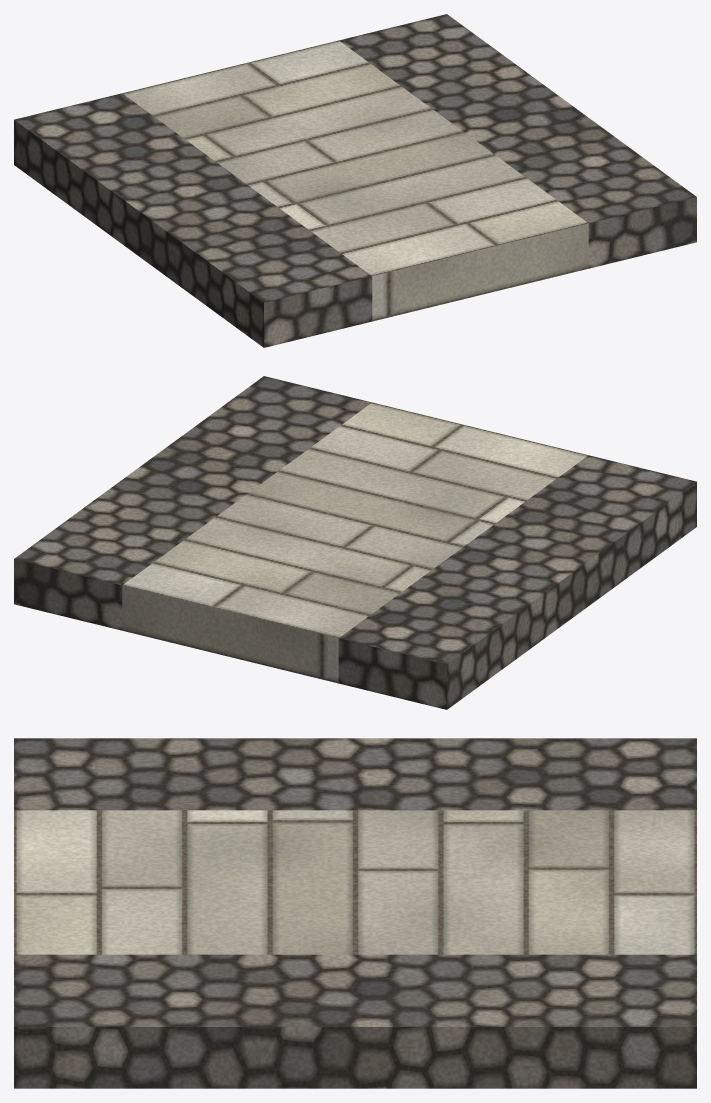
File: road-crossing.glb
The picture shows the model from 3 angles, top to bottom: view 1: azimuth 30°, elevation 25°; view 2: azimuth 150°, elevation 25°; view 3: azimuth 270°, elevation 25°; orthographic projection. The views are drawn at different scales.
Visible parts, largest first — view 1: RoadCrossing_cobble, RoadCrossing_pale; view 2: RoadCrossing_cobble, RoadCrossing_pale; view 3: RoadCrossing_cobble, RoadCrossing_pale.
Part boxes in pixels (left/top/right/bottom): RoadCrossing_cobble: left=14, top=14, right=696, bottom=347; RoadCrossing_pale: left=122, top=40, right=588, bottom=321; RoadCrossing_cobble: left=14, top=376, right=696, bottom=709; RoadCrossing_pale: left=122, top=402, right=588, bottom=683; RoadCrossing_cobble: left=14, top=738, right=696, bottom=1088; RoadCrossing_pale: left=14, top=810, right=696, bottom=954.
Bounding box in the file's own units: 2 × 0.2 × 2.
Materials: 2 (2 with a texture image).
